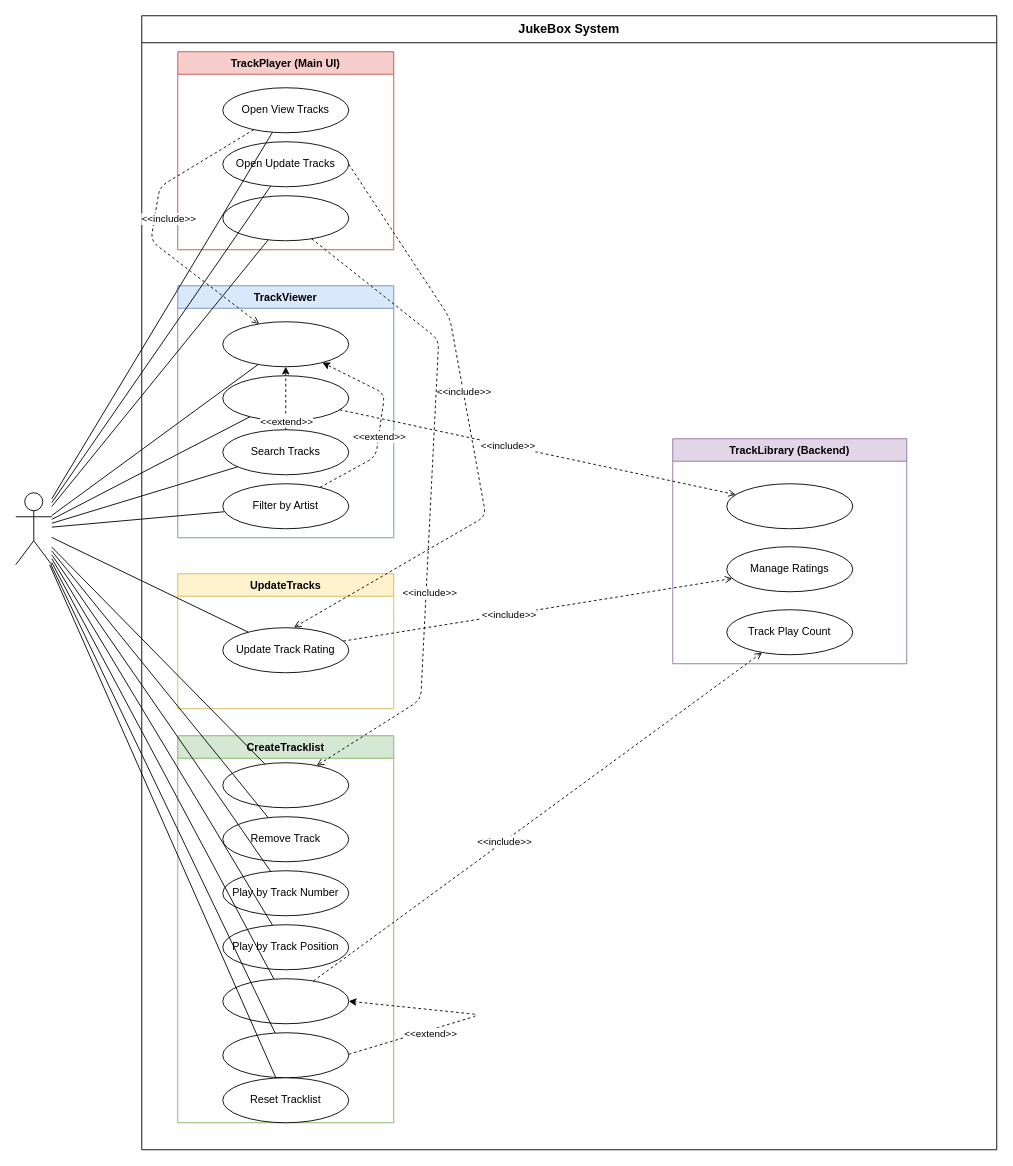
This 1013x1166 diagram has some shape labels left out. The centre of each missing label's shape, as x and y in pixels:
"Add Track to Tracklist" goes at [285,785].
"Get Track Info" goes at [789,506].
"List All Tracks" goes at [285,344].
"Open Create Tracklist" goes at [285,218].
"Play Tracklist" goes at [285,1001].
"Shuffle Play" goes at [285,1055].
"User" goes at [33,528].
"View Specific Track" goes at [285,398].
